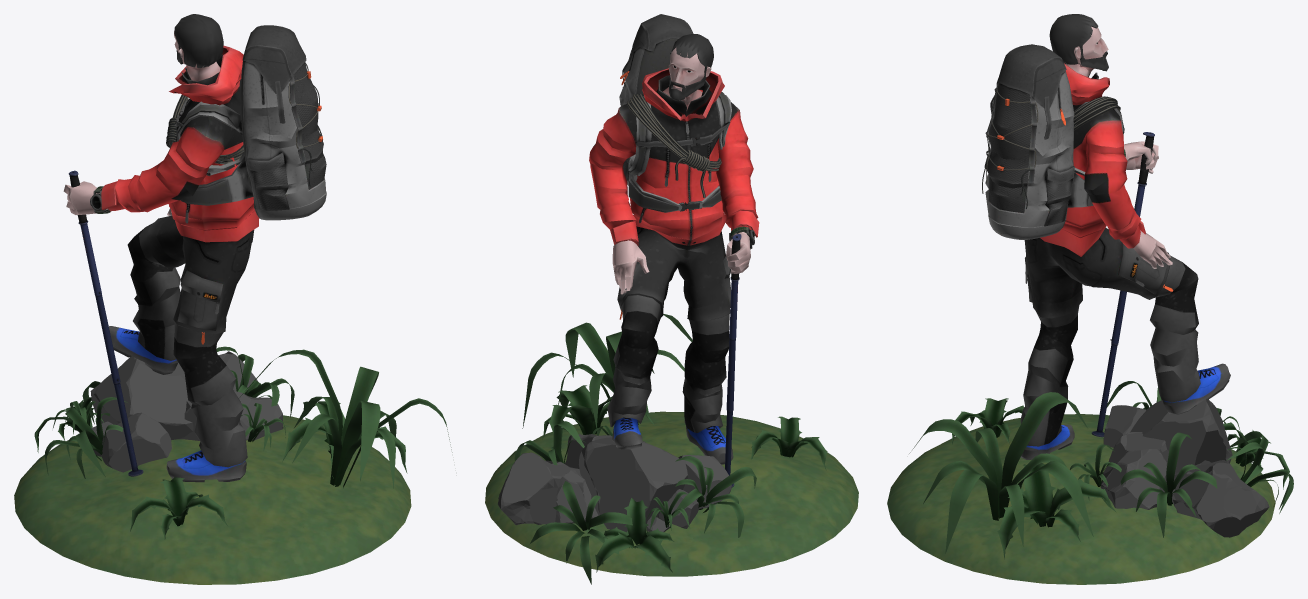
The model's file is trekking.glb.
The picture shows the model from 3 angles, left to right: view 1: azimuth 30°, elevation 25°; view 2: azimuth 150°, elevation 25°; view 3: azimuth 270°, elevation 25°; orthographic projection. The views are drawn at different scales.
Visible parts, largest first — view 1: Circle, BaseMeshBKP__0, Cube, Plane014, Cube002, Plane, BaseMeshBKP__0005, Cube001, Cylinder, BaseMeshBKP__0004, Plane011, Plane003 (+5 smaller); view 2: BaseMeshBKP__0, Circle, Cube002, Cube007, Cube, Plane014, Plane, Plane016, Plane012, Plane003, BaseMeshBKP__0002, BaseMeshBKP__0005 (+12 smaller); view 3: Circle, BaseMeshBKP__0, Cube, Plane014, Cube007, Cube002, Cube008, Plane013, Plane009, BaseMeshBKP__0005, Cylinder, BaseMeshBKP__0004 (+10 smaller).
Part boxes in pixels (x1=…): Circle: x1=14, y1=415, x2=411, y2=584; BaseMeshBKP__0: x1=101, y1=45, x2=259, y2=467; Cube: x1=240, y1=25, x2=326, y2=220; Plane014: x1=239, y1=349, x2=452, y2=488; Cube002: x1=90, y1=356, x2=193, y2=439; Plane: x1=176, y1=99, x2=253, y2=205; BaseMeshBKP__0005: x1=109, y1=326, x2=246, y2=482; Cube001: x1=101, y1=412, x2=171, y2=472; Cylinder: x1=68, y1=170, x2=143, y2=476; BaseMeshBKP__0004: x1=174, y1=14, x2=223, y2=67; Plane011: x1=130, y1=477, x2=227, y2=539; Plane003: x1=44, y1=397, x2=127, y2=478; BaseMeshBKP__0: x1=589, y1=68, x2=759, y2=432; Circle: x1=485, y1=411, x2=858, y2=576; Cube002: x1=579, y1=437, x2=688, y2=532; Cube007: x1=497, y1=452, x2=598, y2=525; Cube: x1=619, y1=14, x2=693, y2=185; Plane014: x1=522, y1=314, x2=692, y2=428; Plane: x1=628, y1=92, x2=731, y2=212; Plane016: x1=530, y1=481, x2=632, y2=584; Plane012: x1=595, y1=498, x2=674, y2=572; Plane003: x1=668, y1=456, x2=756, y2=537; BaseMeshBKP__0002: x1=612, y1=232, x2=750, y2=294; BaseMeshBKP__0005: x1=612, y1=417, x2=733, y2=464; Circle: x1=887, y1=414, x2=1275, y2=584; BaseMeshBKP__0: x1=1020, y1=63, x2=1200, y2=446; Cube: x1=984, y1=44, x2=1074, y2=239; Plane014: x1=909, y1=392, x2=1093, y2=553; Cube007: x1=1172, y1=460, x2=1269, y2=537; Cube002: x1=1130, y1=399, x2=1232, y2=472; Cube008: x1=1100, y1=432, x2=1168, y2=509; Plane013: x1=997, y1=463, x2=1116, y2=559; Plane009: x1=1120, y1=432, x2=1217, y2=537; BaseMeshBKP__0005: x1=1020, y1=363, x2=1230, y2=459; Cylinder: x1=1091, y1=132, x2=1154, y2=437; BaseMeshBKP__0004: x1=1049, y1=14, x2=1098, y2=64.
Bounding box in the file's own units: 1.41 × 1.98 × 1.47.
9 materials, 8 textured.
